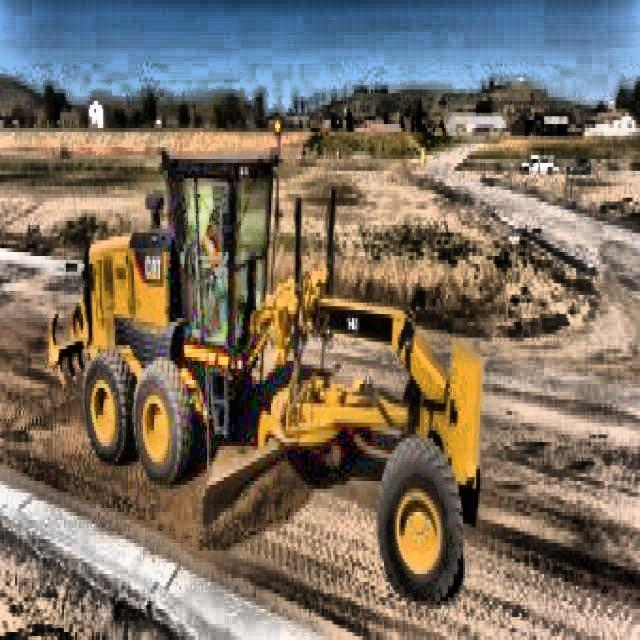bull_dozer/loader/grader: (46, 136, 484, 612)
person: (202, 205, 232, 312)
